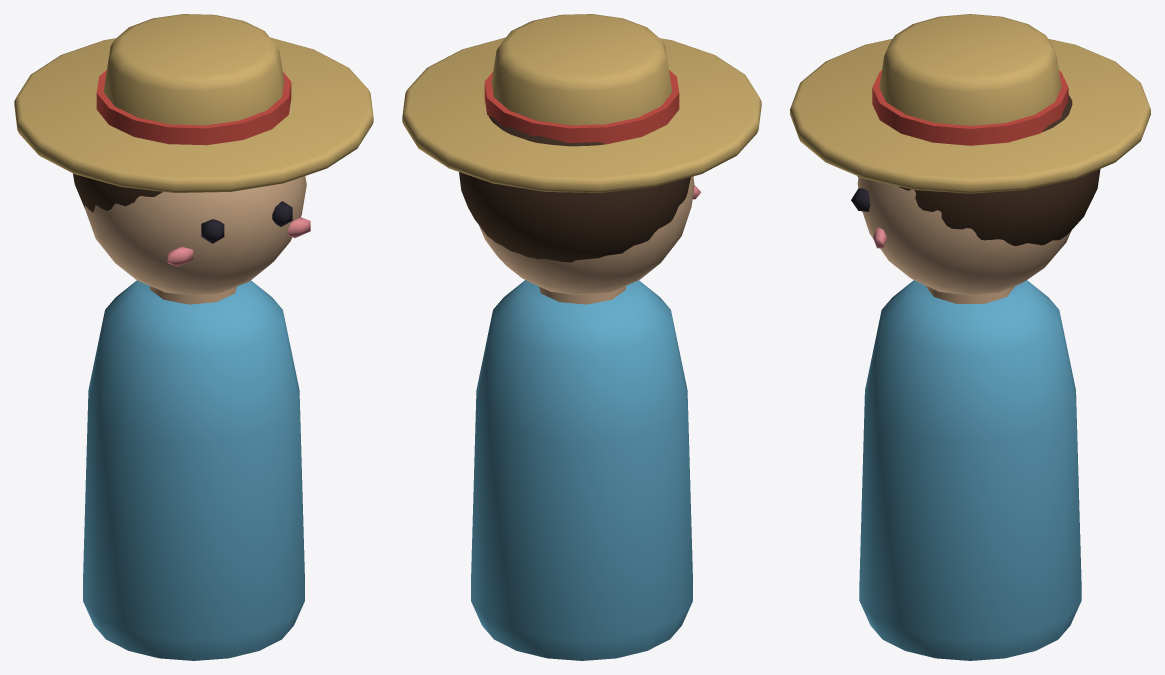
The model's file is person_tom.fbx.
3 views of the same model, side by side, from view 1: azimuth 30°, elevation 25°; view 2: azimuth 150°, elevation 25°; view 3: azimuth 270°, elevation 25° (orthographic).
Visible parts, largest first — view 1: Body, Head; view 2: Body, Head; view 3: Body, Head.
Part boxes in pixels (x1=…): Body: x1=83, y1=280, x2=304, y2=660; Head: x1=14, y1=14, x2=373, y2=295; Body: x1=471, y1=280, x2=692, y2=660; Head: x1=402, y1=14, x2=761, y2=294; Body: x1=859, y1=280, x2=1081, y2=660; Head: x1=790, y1=14, x2=1150, y2=295.
Size of the model in its own units: 0.32 by 0.565 by 0.32.
